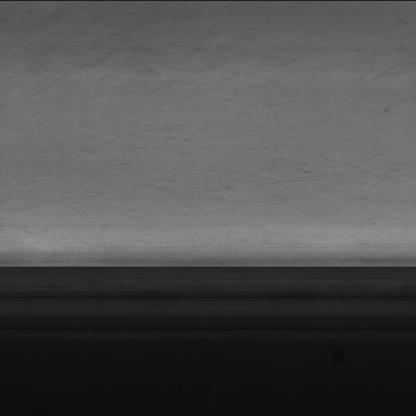silk_spot: (146, 150, 353, 198)
